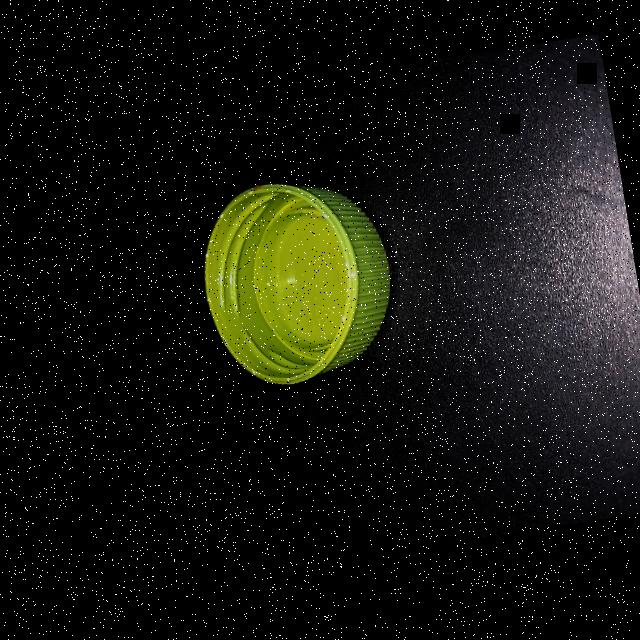plastic_bottle_cap: (188, 163, 407, 394)
